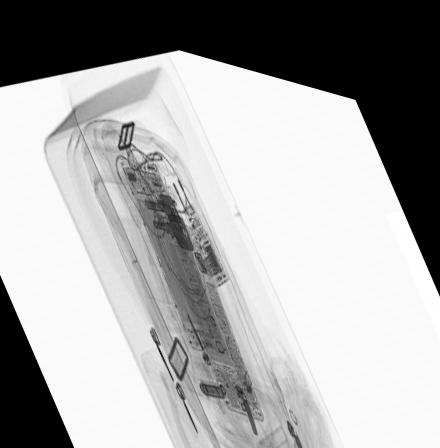Lighter: (252, 407, 295, 448)
